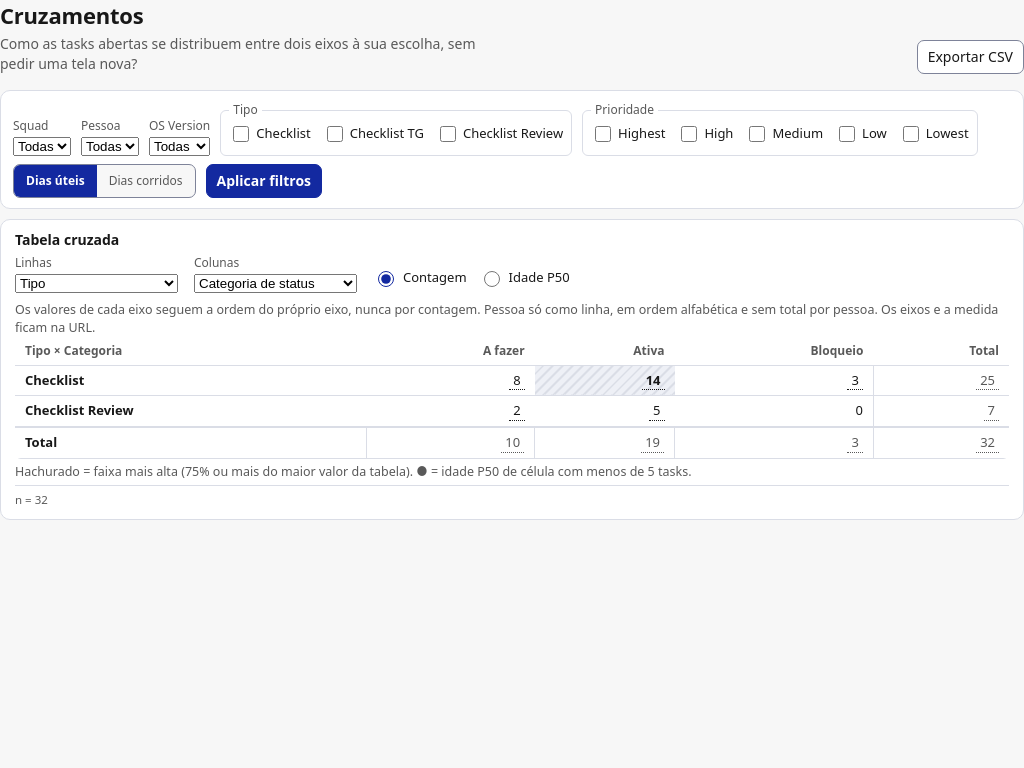
Test: aba Cruzamentos › totaisAbremAsTasks
Click the button named "Total Checklist: 25". click: (988, 380)
box: [976,370,999,390]
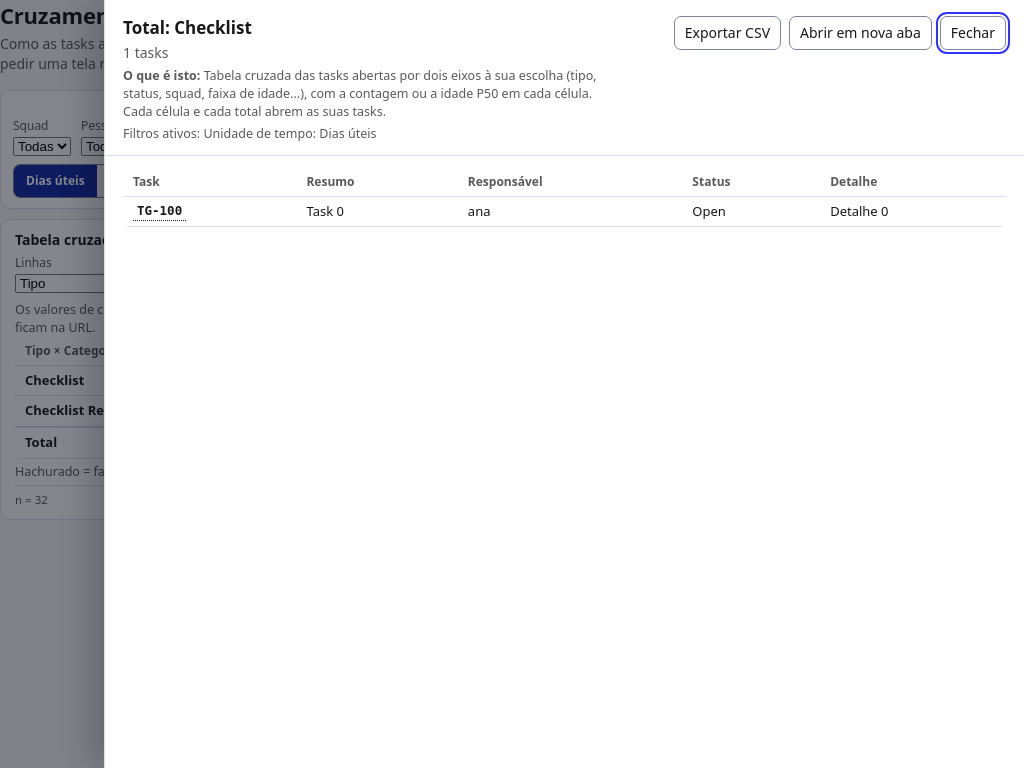
Expected: the dialog is shown
Press Escape
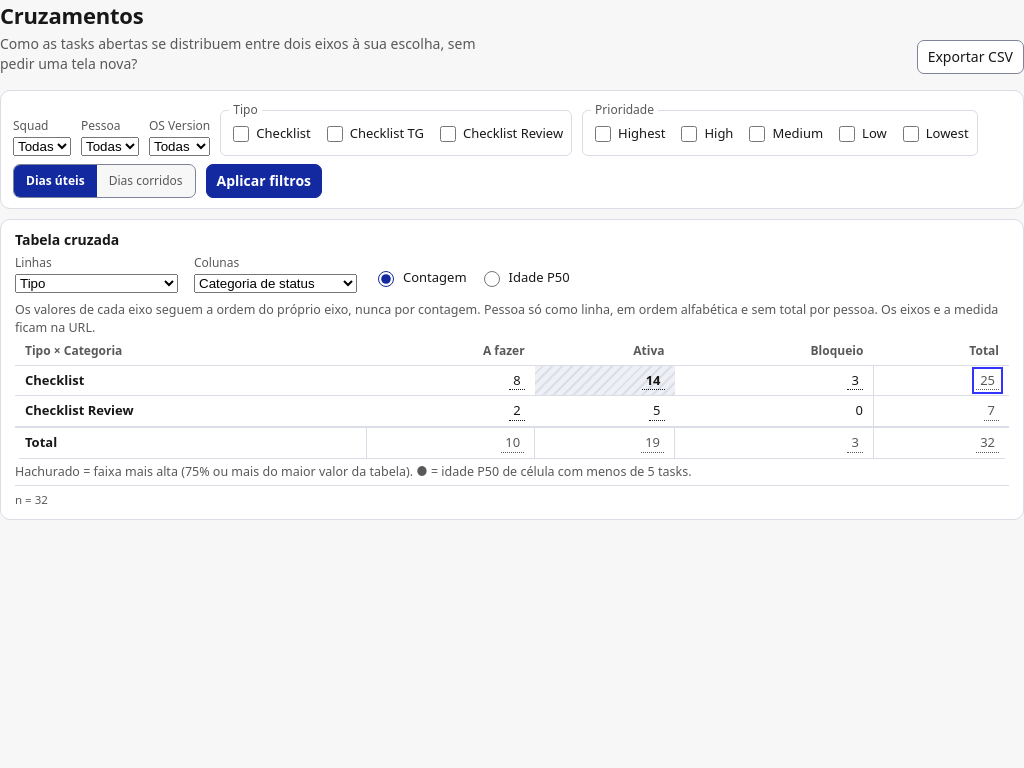
Click the button named "Total Ativa: 19". click: (653, 443)
box: [641,433,664,453]
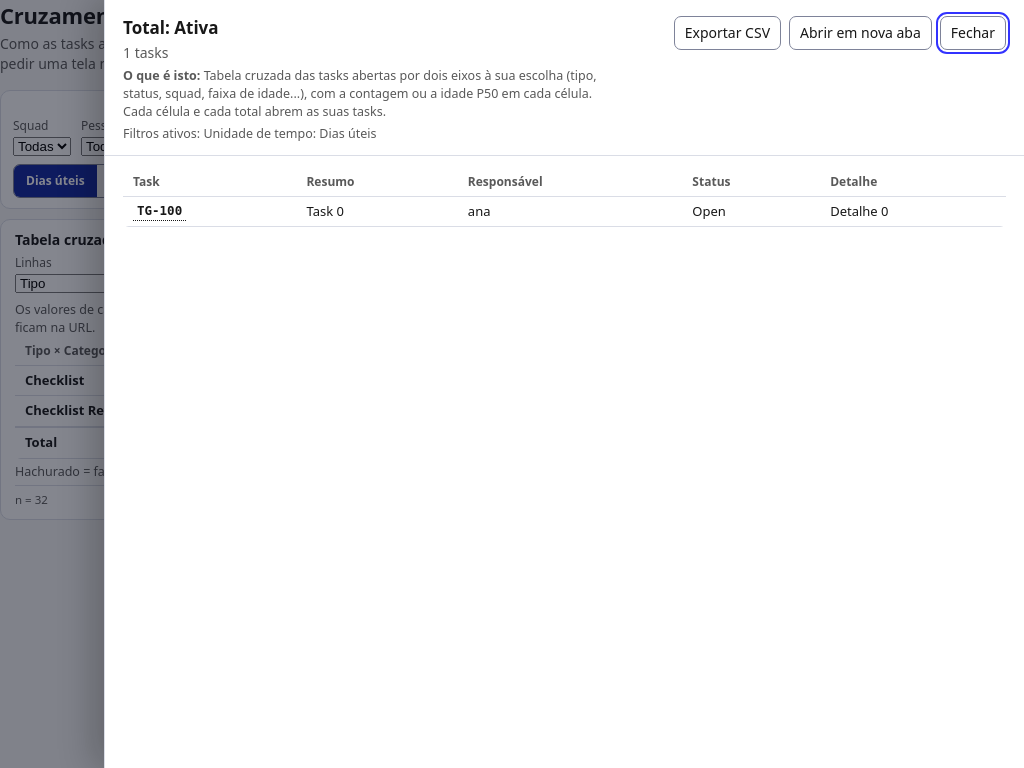
Expected: the dialog is shown
Press Escape
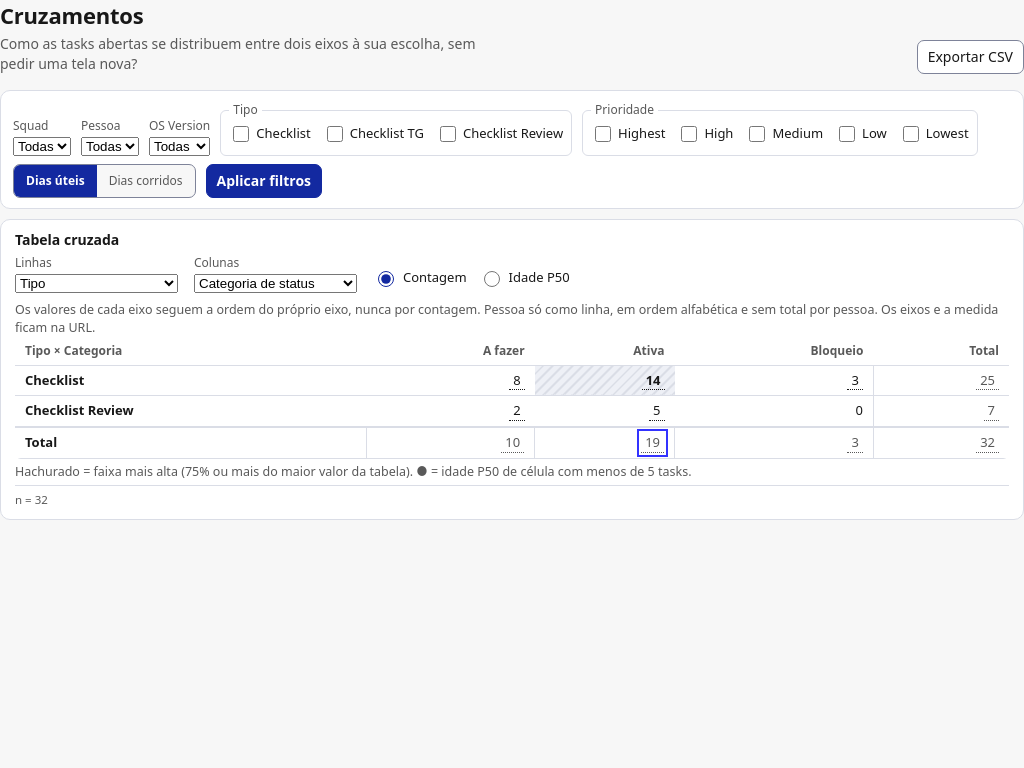
Click the button named "Total geral: 32". click: (988, 443)
box: [976,433,999,453]
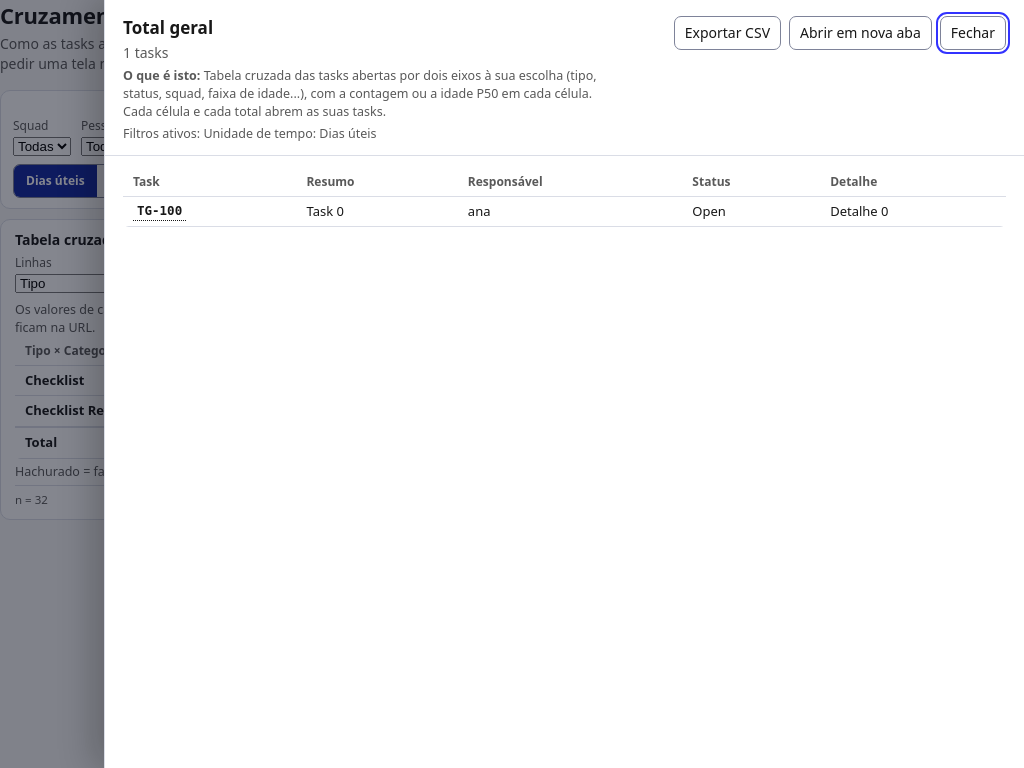
Expected: the dialog is shown
